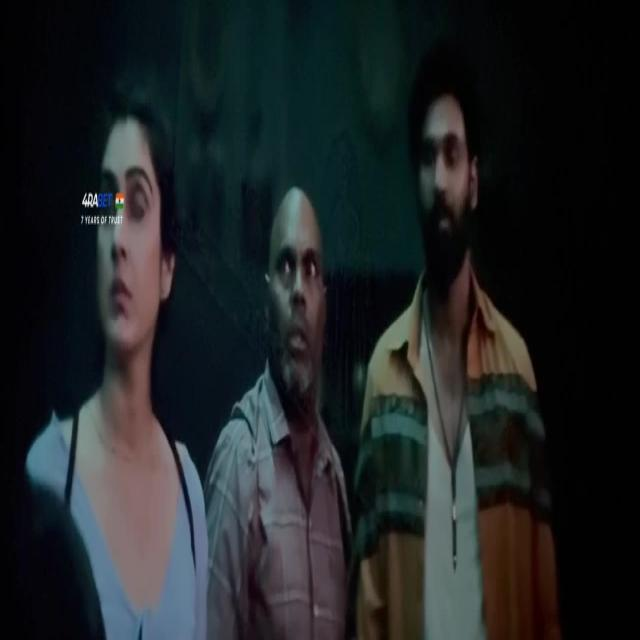4rabet: (80, 178, 132, 240)
